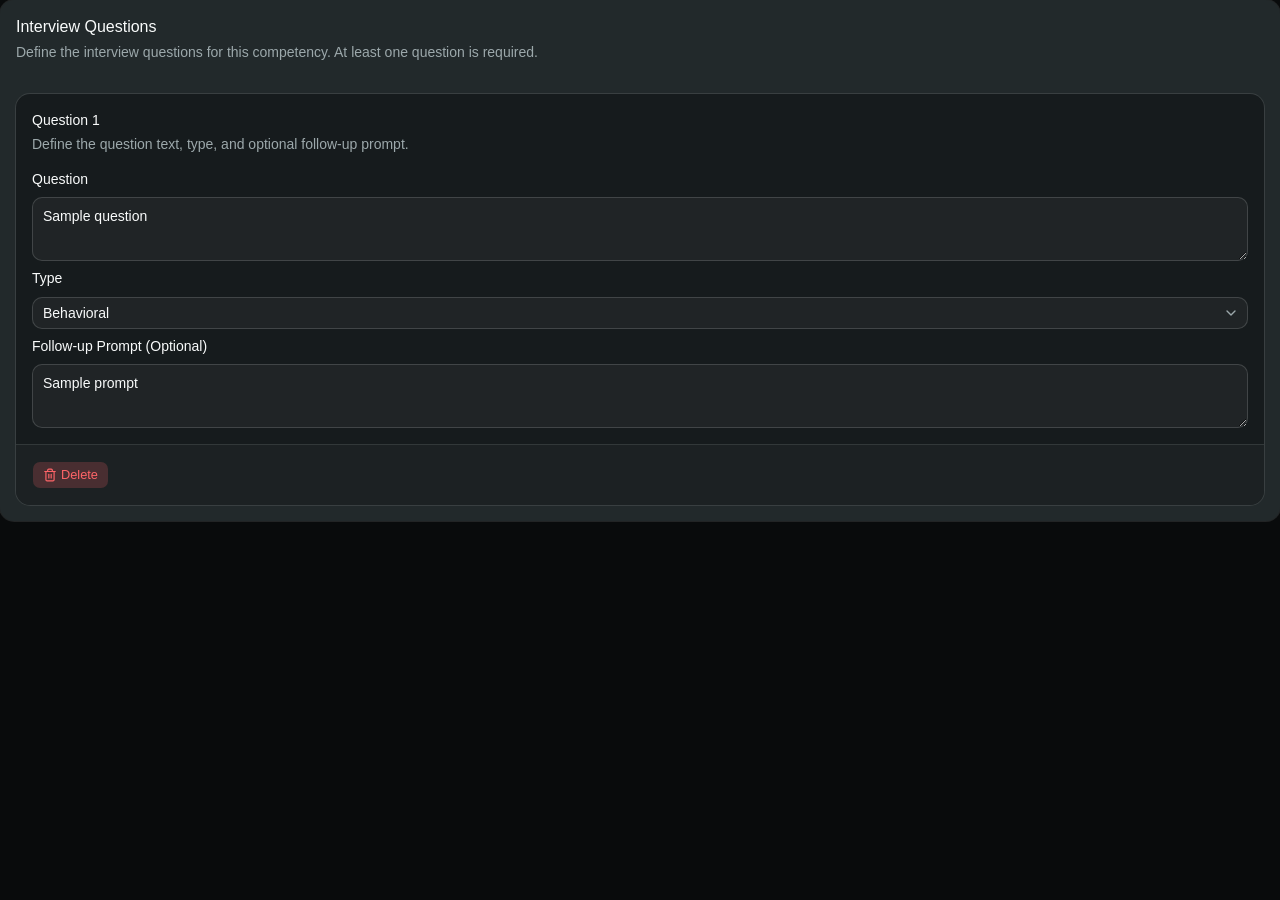
Test: QuestionsFormFields › Question Deletion › should close dialog without removing when cancel is clicked
What coordinates should you click on to do the following:
click the button with test id "remove-question-button-0-0"
I would click on:
 (70, 475)
Its box is left=32, top=461, right=109, bottom=489.
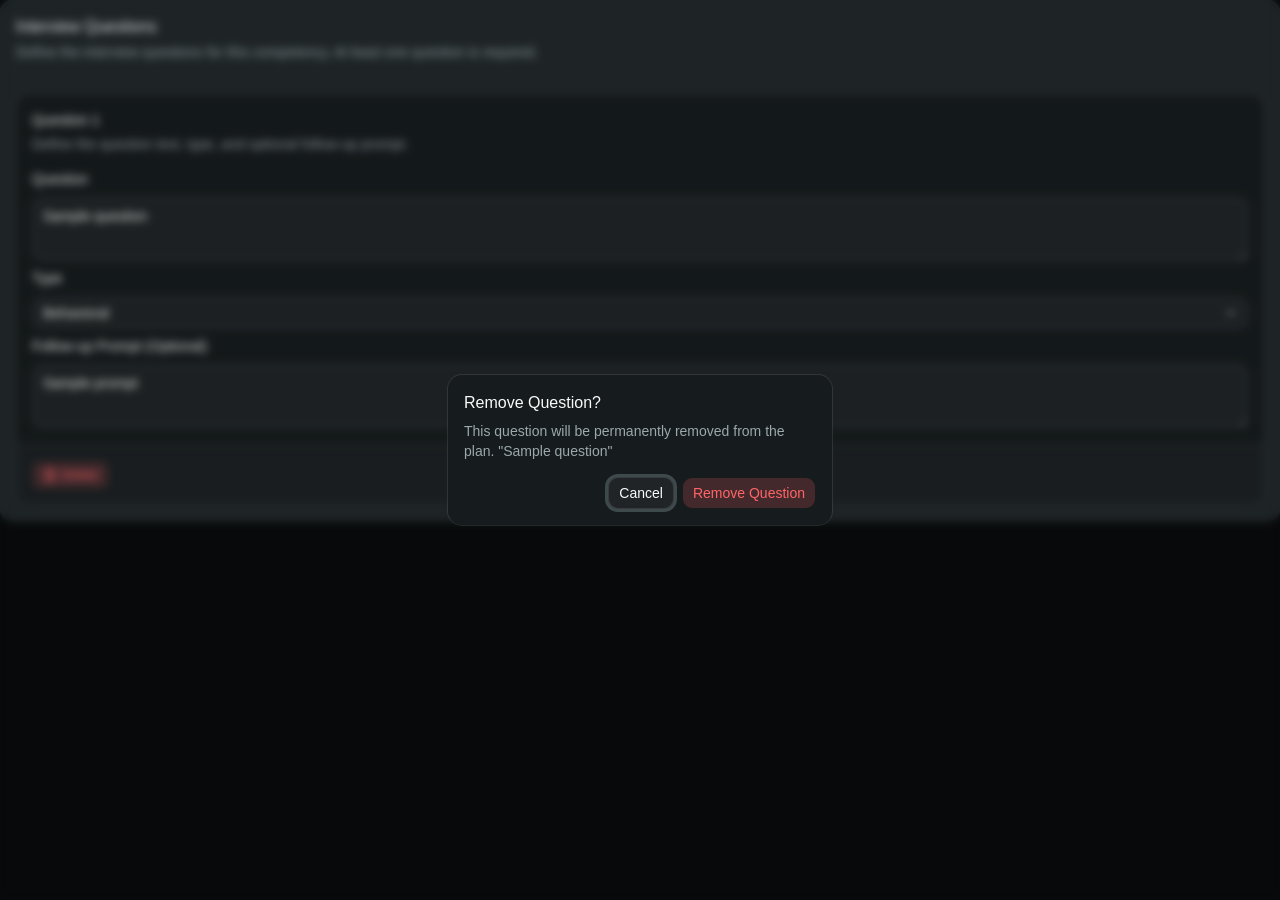
What coordinates should you click on to do the following:
click the button with test id "confirm-cancel-button"
I would click on:
 (641, 493)
Its box is left=608, top=477, right=674, bottom=509.
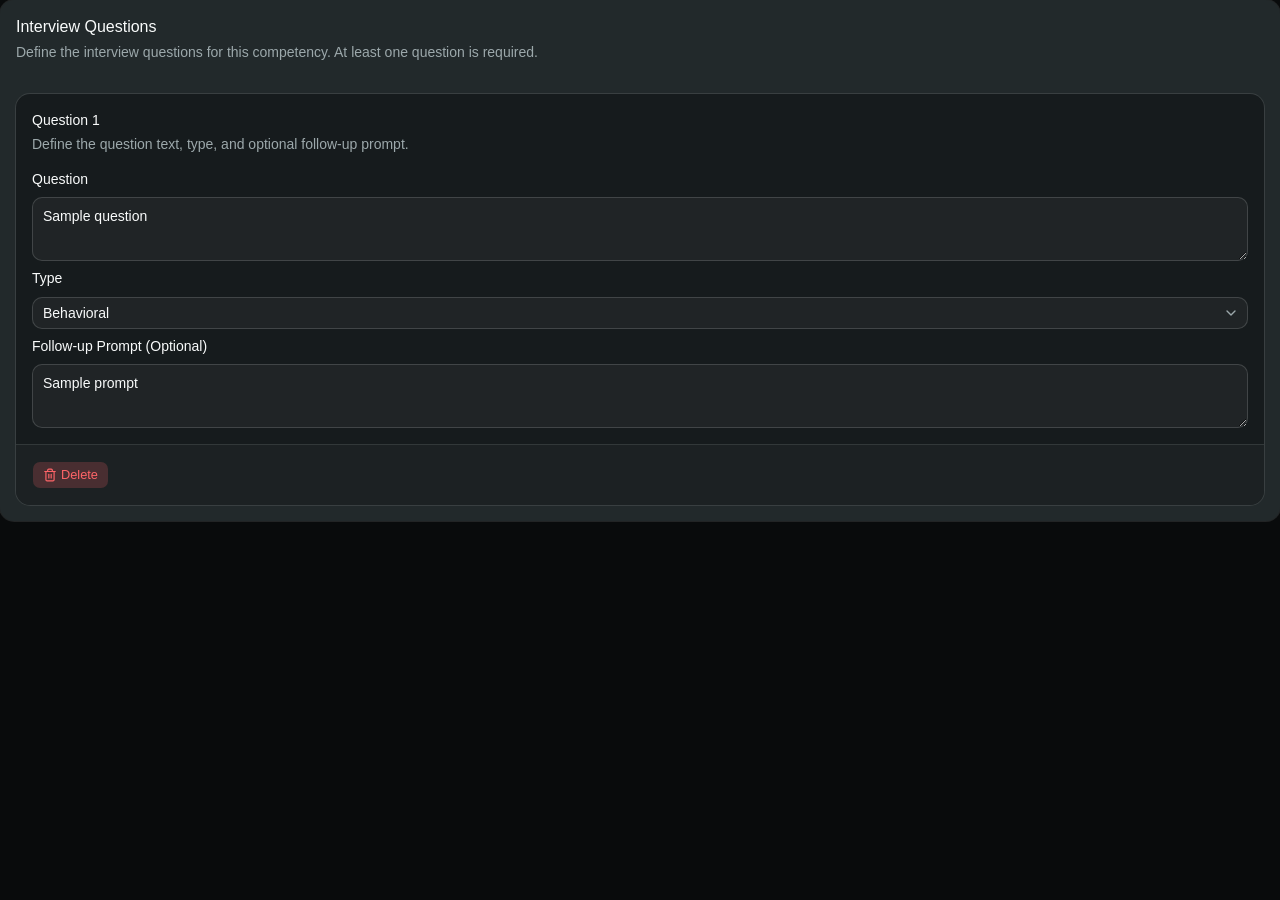
Expected: the element with test id "question-card-0-0" is shown, left=16, top=94, right=1264, bottom=505
Now the dialog with test id "remove-confirm-dialog" is gone
